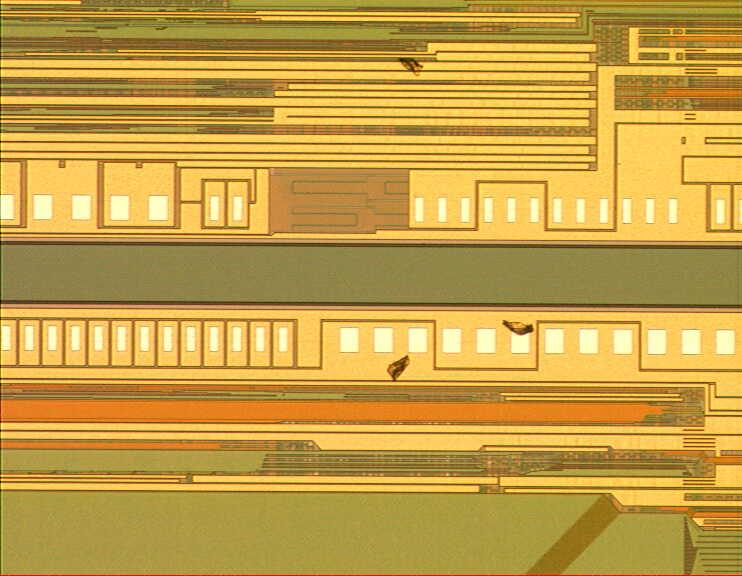PO CONTAMINATION: (384, 53, 539, 385)
